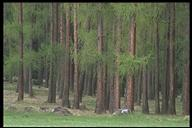grass: (10, 115, 180, 125)
tree: (2, 2, 191, 117)
